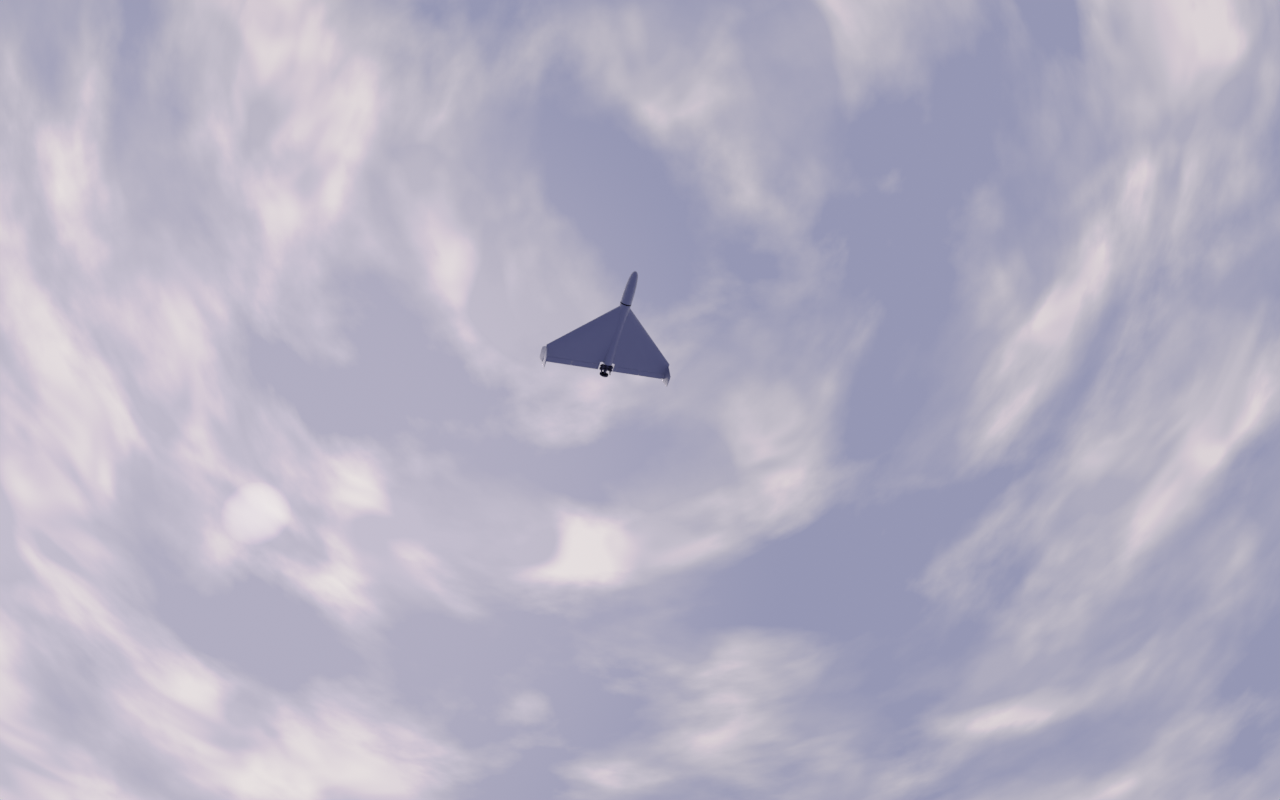shahed: (540, 271, 673, 389)
